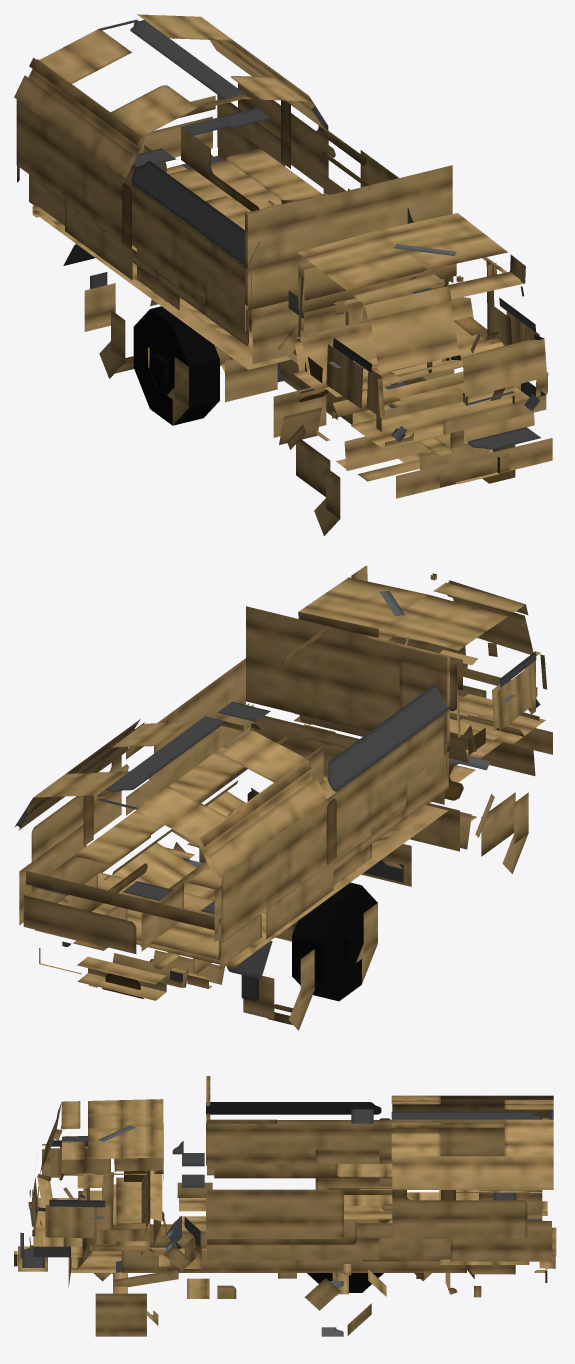
The model's file is kamaz5350.obj.
3 renders of one model, top to bottom at view 1: azimuth 30°, elevation 25°; view 2: azimuth 150°, elevation 25°; view 3: azimuth 270°, elevation 25°, orthographic. The views are drawn at different scales.
Visible parts, largest first — view 1: body, w3, w5, w1; view 2: body, w3, w5, w1; view 3: body, w2, w4, w3.
Part boxes in pixels (x1,y1,x2,y2): body: (14, 14, 552, 498); w3: (133, 306, 219, 425); w5: (84, 272, 133, 378); w1: (287, 424, 340, 535); body: (14, 566, 552, 1000); w3: (292, 882, 377, 1001); w5: (241, 949, 314, 1030); w1: (475, 792, 528, 873); body: (14, 1076, 556, 1298); w2: (95, 1293, 158, 1336); w4: (304, 1264, 386, 1336); w3: (307, 1273, 383, 1292).
Bounding box in the file's own units: 3.18 × 3.83 × 9.12.
